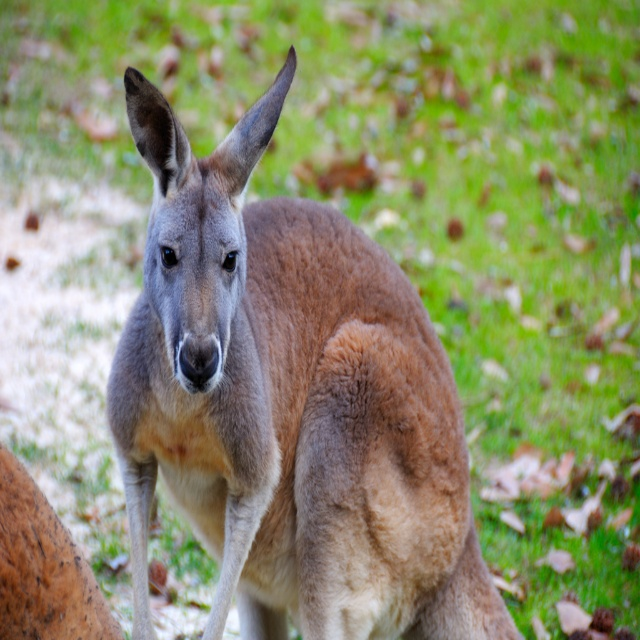Kangaroo: (107, 42, 526, 639)
